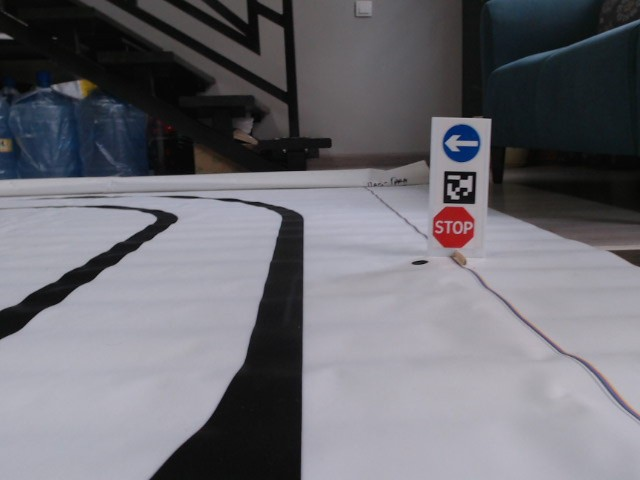Stop: (432, 205, 476, 250)
